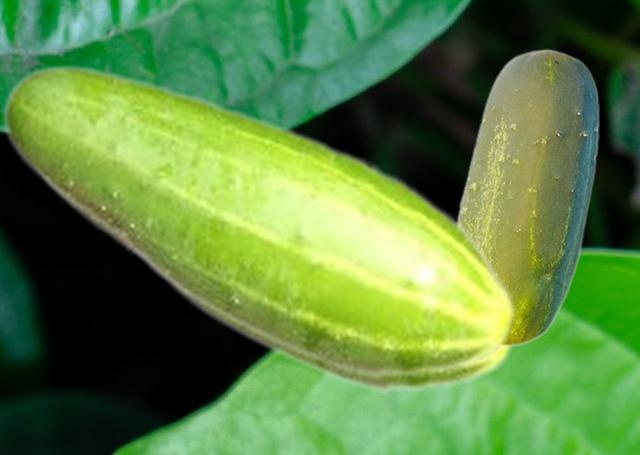cucumber: (1, 63, 517, 381), (36, 178, 518, 395), (457, 48, 598, 346)
